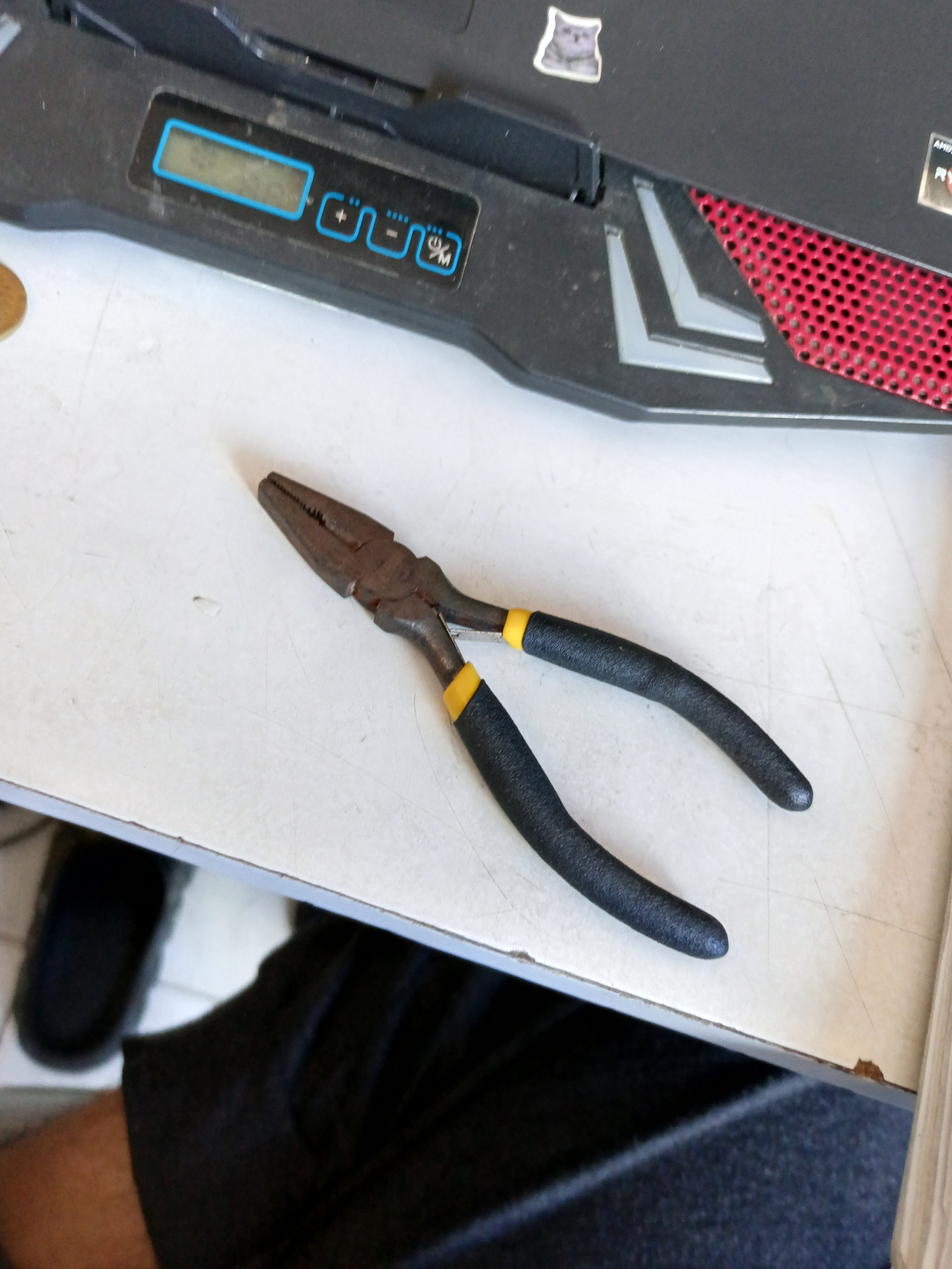Pinzas: (258, 473, 812, 958)
